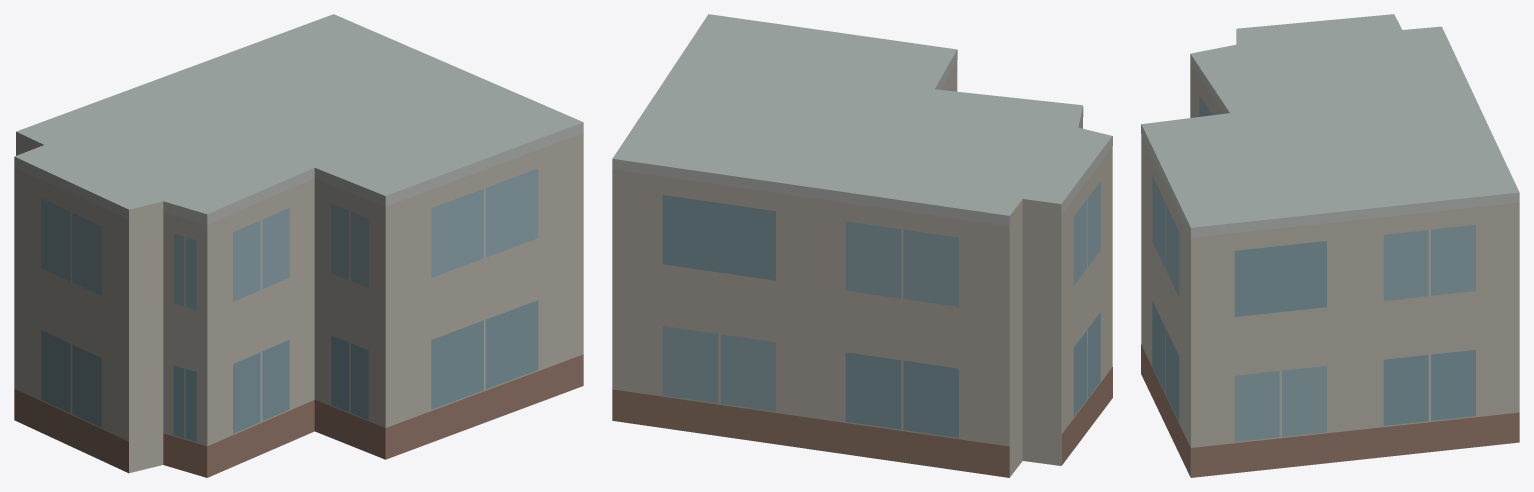
Rendered from survey-upis-32722878.glb.
The picture shows the model from 3 angles, left to right: view 1: azimuth 30°, elevation 25°; view 2: azimuth 150°, elevation 25°; view 3: azimuth 270°, elevation 25°; orthographic projection. The views are drawn at different scales.
Visible parts, largest first — view 1: survey-upis-32722878.tmp; view 2: survey-upis-32722878.tmp; view 3: survey-upis-32722878.tmp.
Boxes of the visible parts, left/top/right/bottom form: survey-upis-32722878.tmp: left=14, top=14, right=583, bottom=477; survey-upis-32722878.tmp: left=612, top=14, right=1112, bottom=477; survey-upis-32722878.tmp: left=1141, top=14, right=1519, bottom=477.
Bounding box in the file's own units: 11.2 × 6.1 × 8.38.
